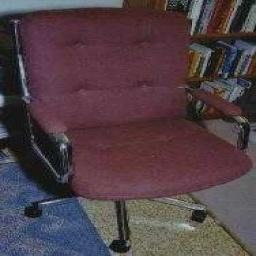Chair: (13, 12, 253, 248)
